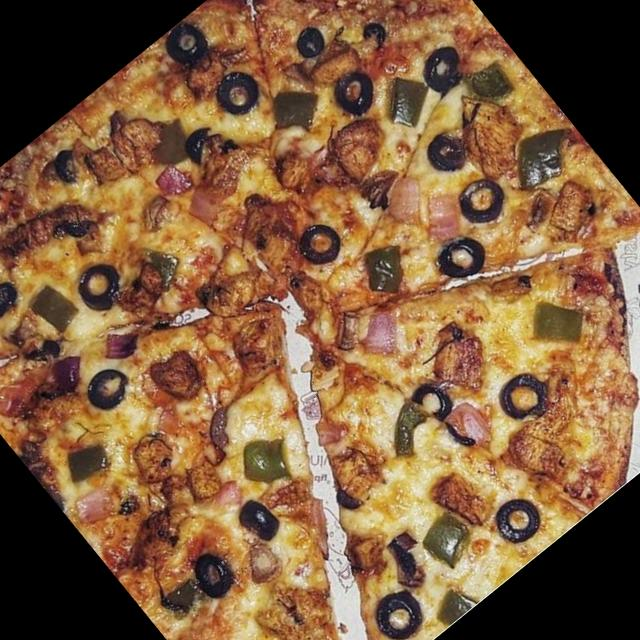black_olives: (359, 576, 439, 640), (182, 540, 248, 609), (484, 483, 550, 551), (451, 166, 516, 232), (428, 222, 491, 286), (69, 250, 131, 312), (326, 61, 386, 122), (208, 61, 268, 122), (490, 367, 550, 427), (412, 40, 471, 100), (292, 214, 351, 274), (229, 489, 287, 549), (154, 16, 212, 74), (77, 359, 136, 416), (401, 374, 456, 429), (418, 121, 472, 176), (182, 115, 233, 167), (40, 143, 87, 191), (353, 14, 398, 60), (287, 19, 332, 64), (0, 273, 25, 318)
peppers: (494, 109, 586, 198), (367, 58, 446, 138), (518, 282, 596, 360), (371, 396, 444, 470), (408, 504, 480, 578), (258, 68, 330, 140), (352, 238, 418, 304), (27, 274, 90, 340), (236, 424, 298, 488), (57, 429, 120, 491), (462, 51, 522, 112), (140, 112, 198, 171), (158, 572, 206, 620), (432, 579, 479, 625), (143, 244, 188, 288)
